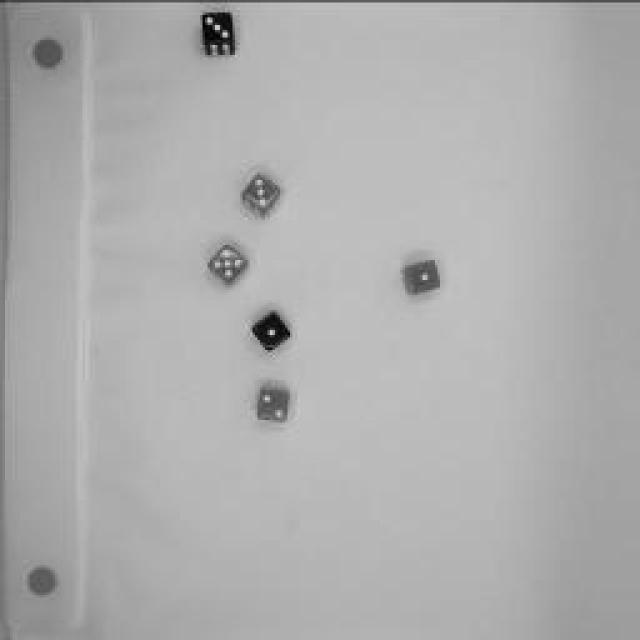dice_1: (247, 300, 295, 355), (395, 255, 445, 297)
dice_2: (254, 382, 296, 430)
dice_3: (234, 168, 286, 224), (198, 9, 242, 59)
dice_5: (200, 238, 255, 292)
